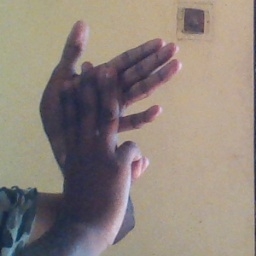M: (35, 19, 184, 187)
